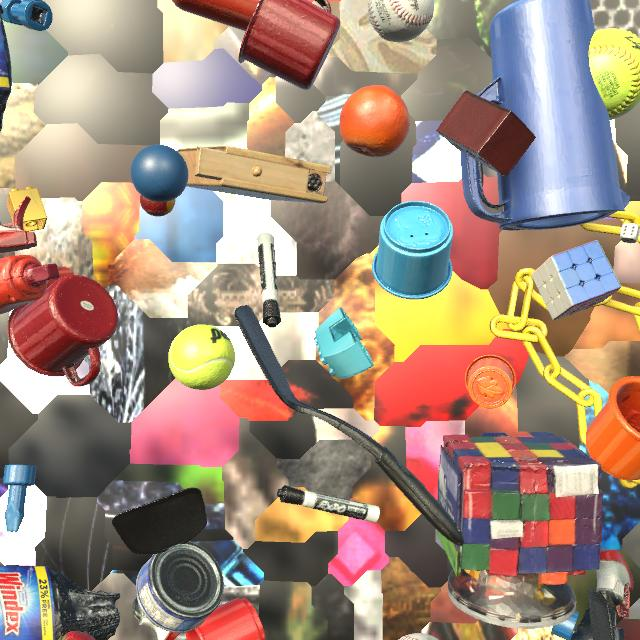ycb_007_tuna_fish_can: (136, 541, 224, 633)
ycb_012_strawberry: (58, 631, 95, 640)
ycb_017_orange: (340, 85, 410, 157)
